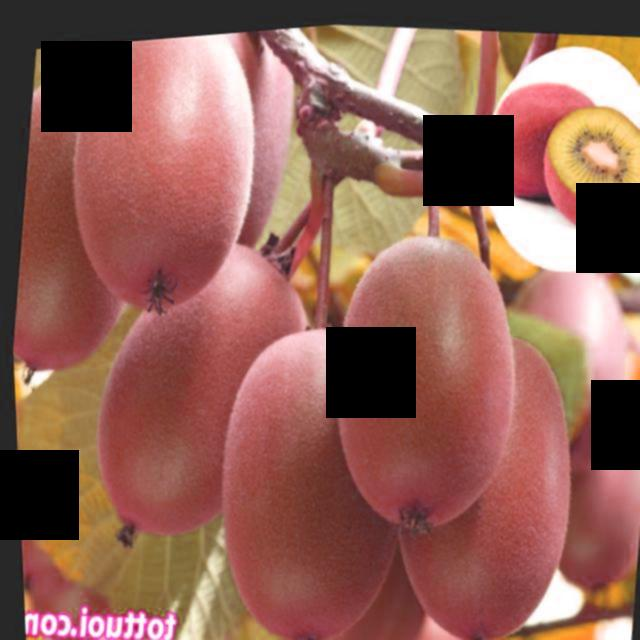kiwi: (77, 218, 326, 546), (197, 302, 426, 640), (375, 309, 594, 640), (316, 214, 537, 542), (55, 25, 276, 321), (3, 49, 161, 373), (137, 23, 309, 256), (493, 250, 640, 476), (545, 372, 640, 597)
